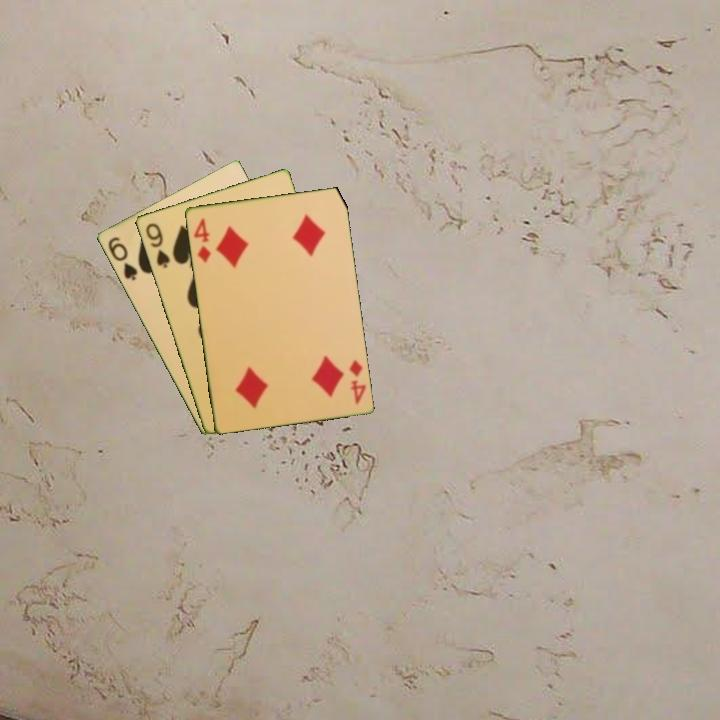4d: (345, 356, 369, 407), (190, 215, 213, 265)
6s: (104, 233, 140, 283)
9s: (142, 219, 172, 271)
